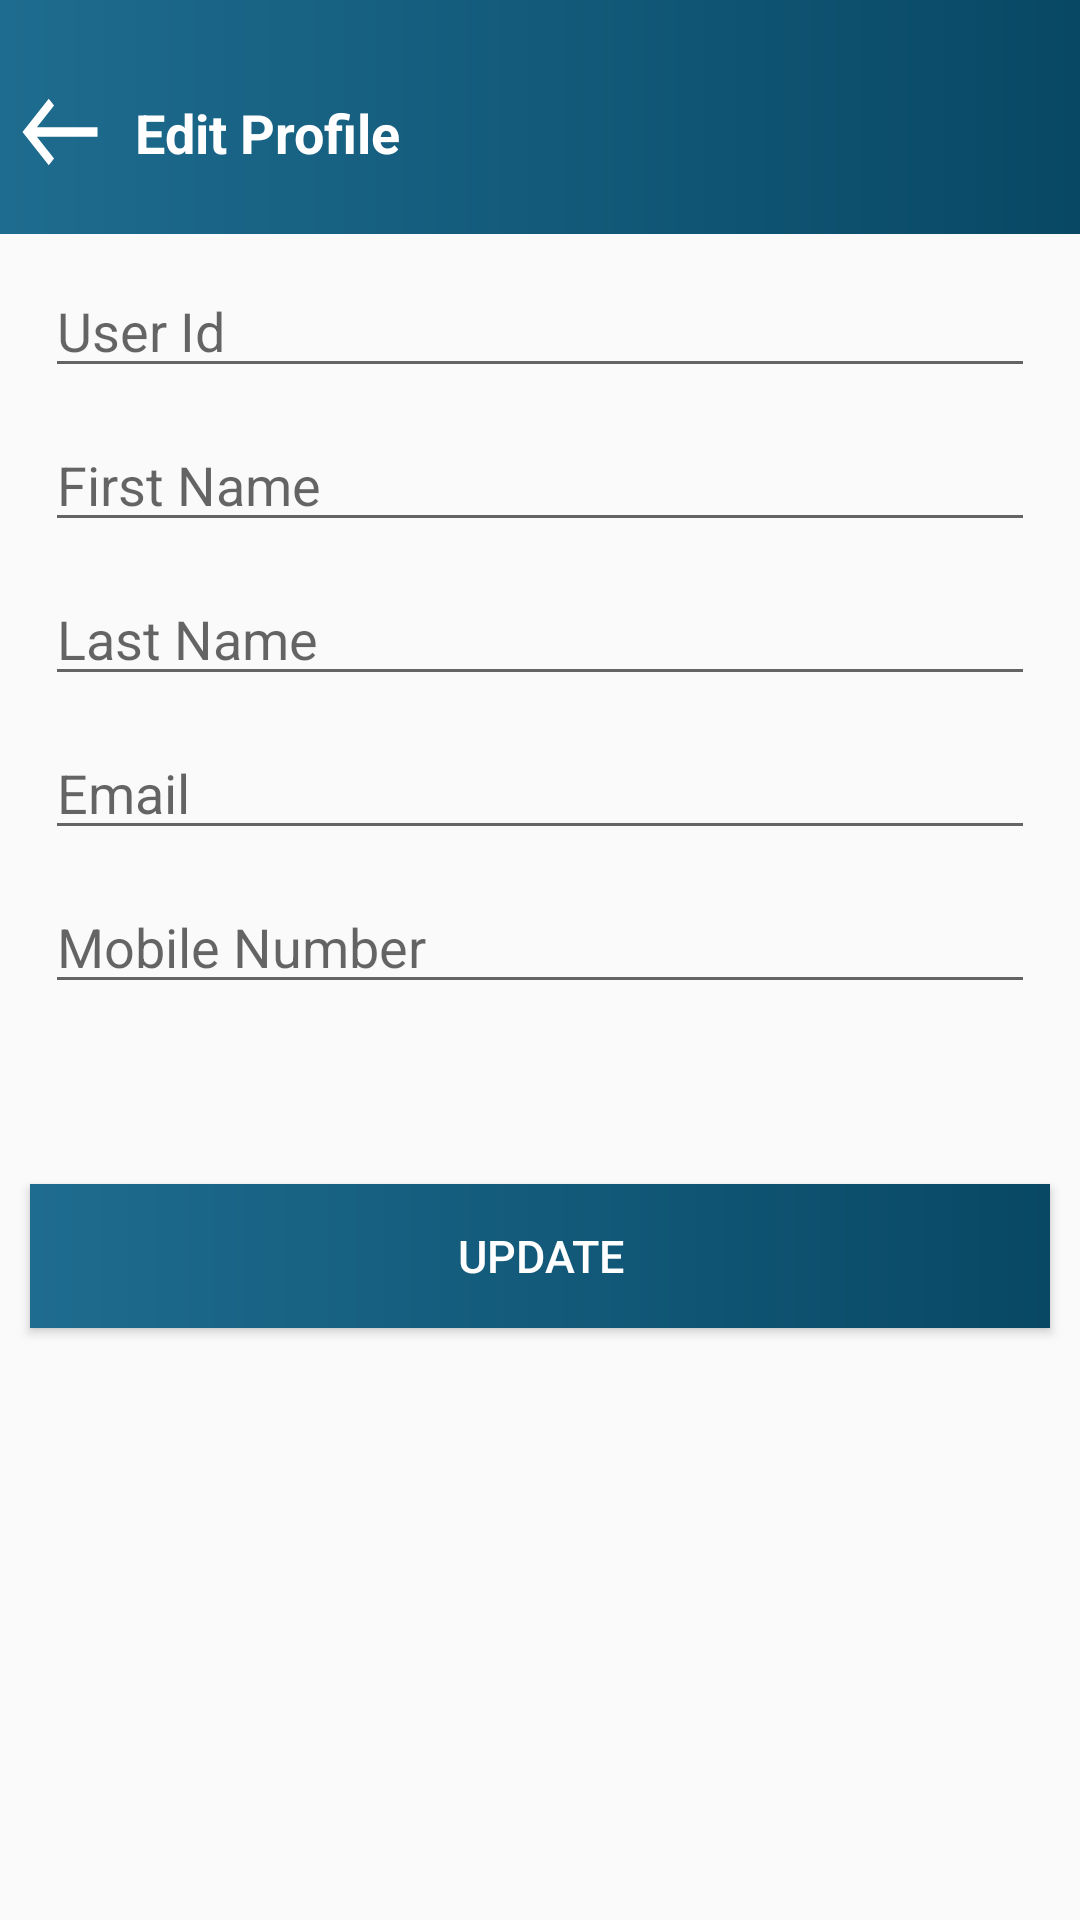

Locate icon controls on the screen. Image size 1080×1920, boxes as (x1, y1, x2, y2).
west: (22, 99, 98, 165)
